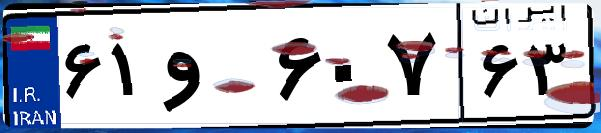0: (330, 28, 385, 110)
1: (110, 28, 158, 98)
3: (525, 38, 570, 115)
6: (270, 28, 330, 110), (57, 26, 110, 100), (475, 38, 525, 113)
7: (385, 28, 445, 110)
و: (158, 20, 270, 120)
